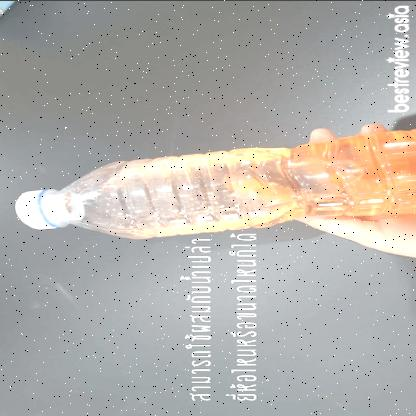Plastic Bottle: (16, 128, 416, 237)
